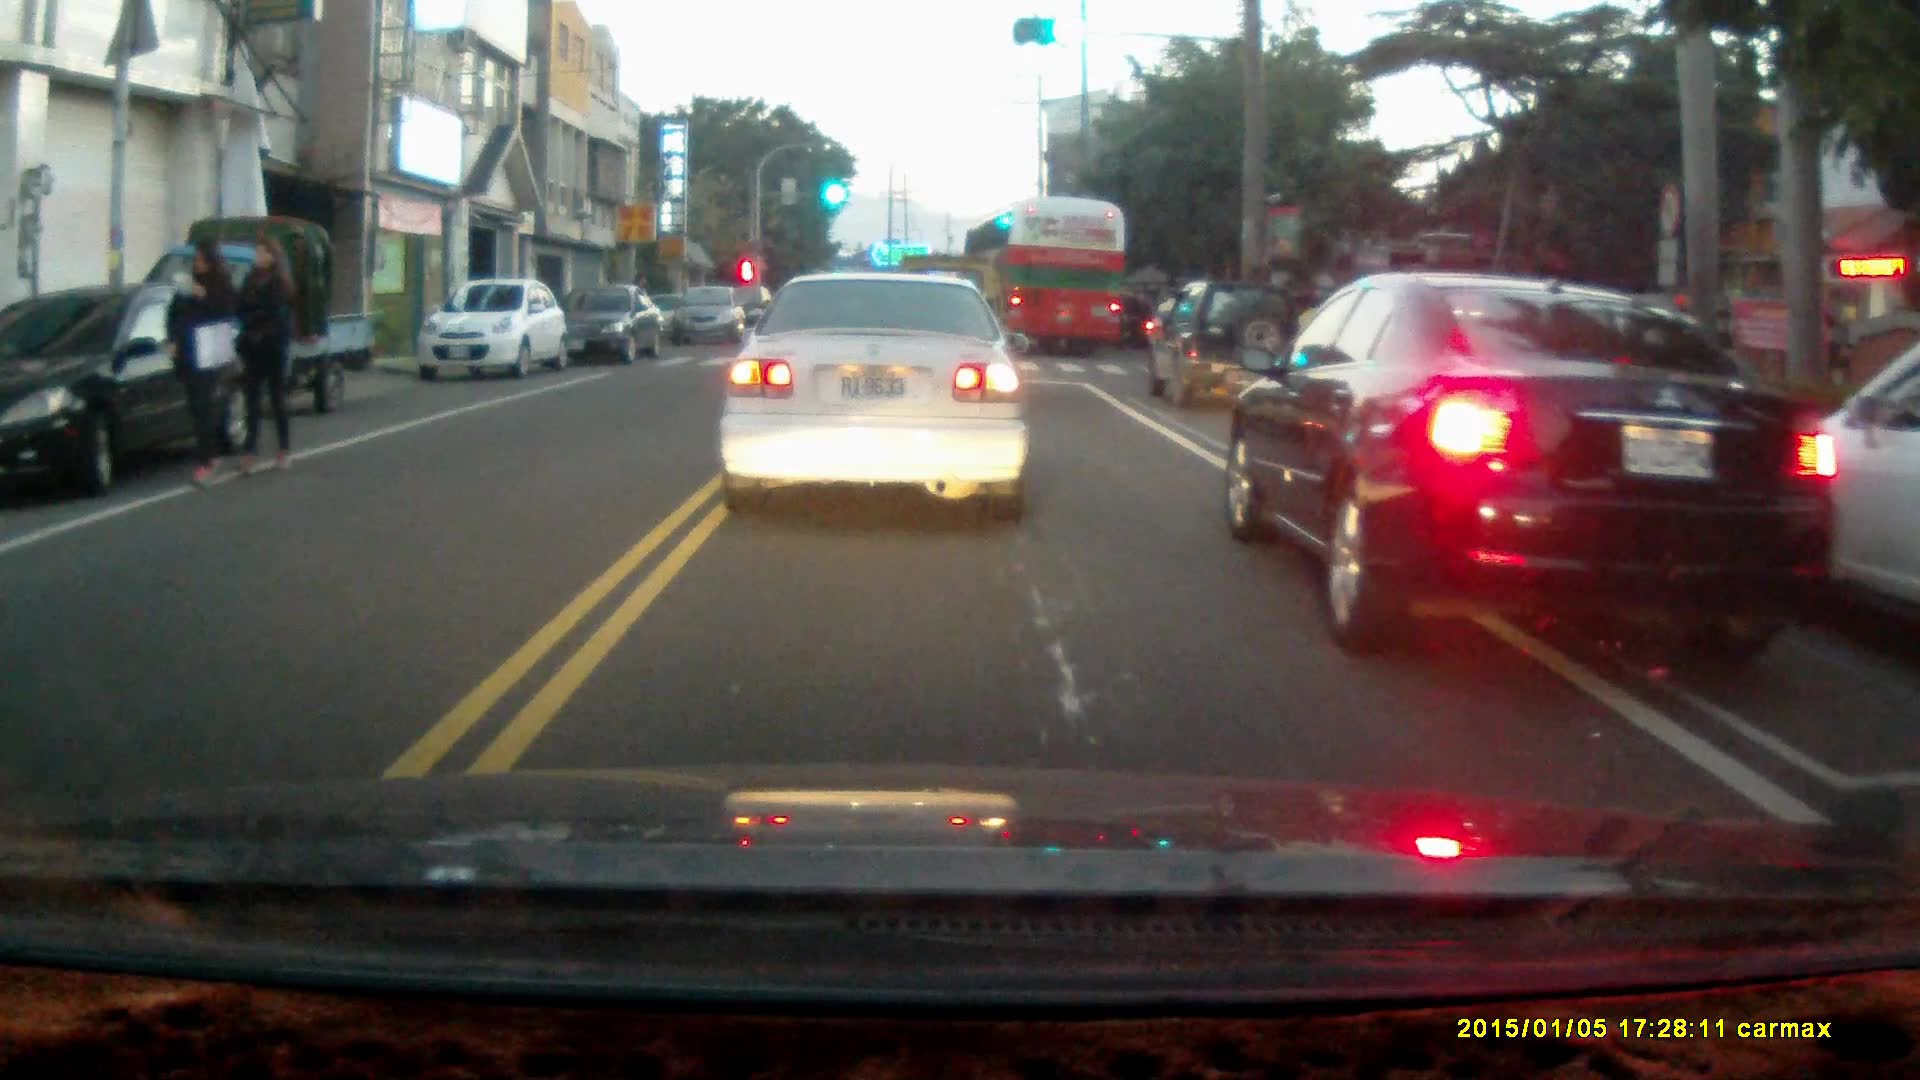pedestrian: (164, 234, 238, 487), (233, 232, 295, 470)
rider: (1117, 291, 1155, 355)
vehicle: (1225, 273, 1845, 646), (717, 266, 1030, 521), (1, 279, 271, 496), (1728, 345, 1920, 616), (137, 213, 383, 415), (963, 198, 1126, 359), (1153, 278, 1298, 409), (418, 279, 571, 382), (557, 278, 669, 368), (671, 286, 753, 347)
